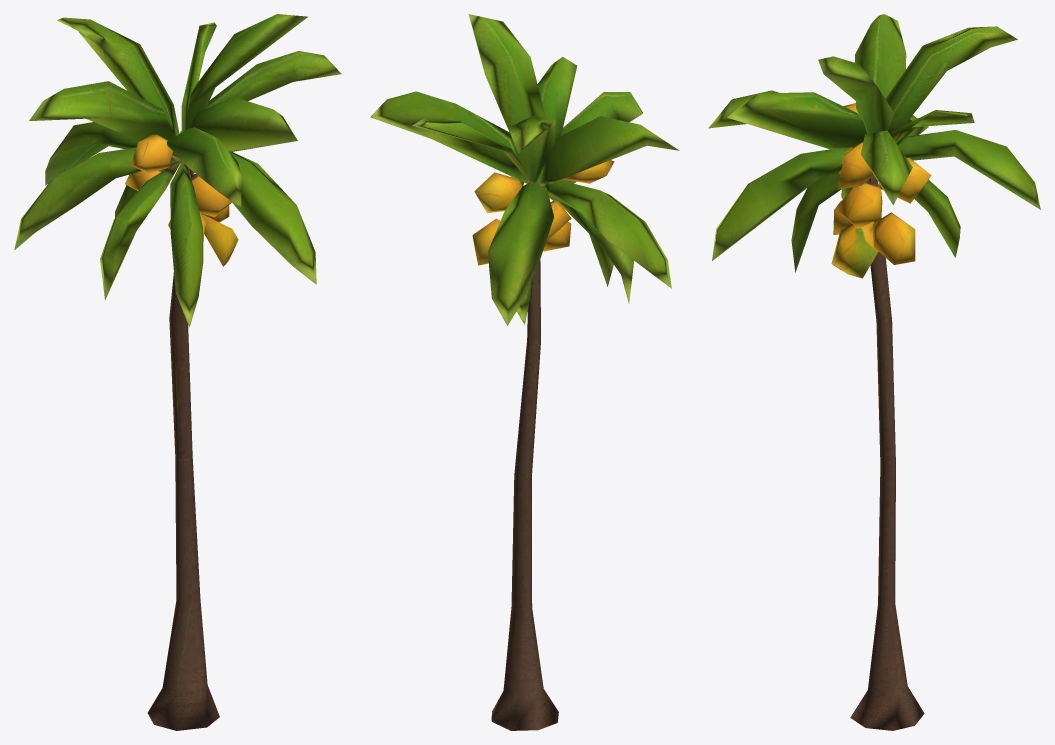
Rendered from tree_palm2.glb.
The picture shows the model from 3 angles, left to right: view 1: azimuth 30°, elevation 25°; view 2: azimuth 150°, elevation 25°; view 3: azimuth 270°, elevation 25°; orthographic projection. The views are drawn at different scales.
Size of the model in its own units: 0.457 by 0.9507 by 0.415.
1 material, 1 textured.
